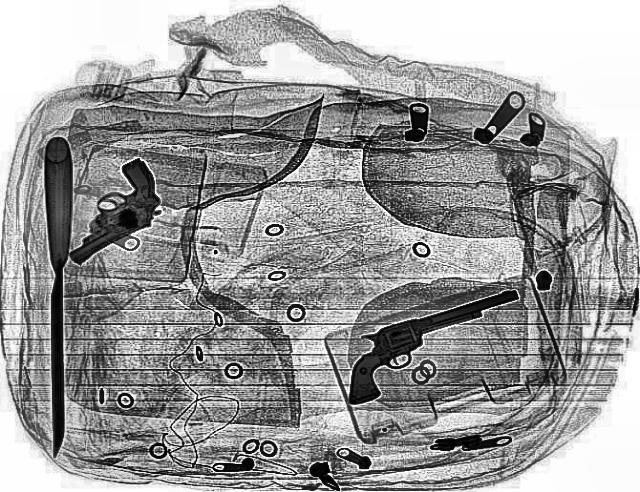Gun: (316, 288, 550, 406), (24, 156, 190, 264)
Knife: (42, 135, 74, 457)
